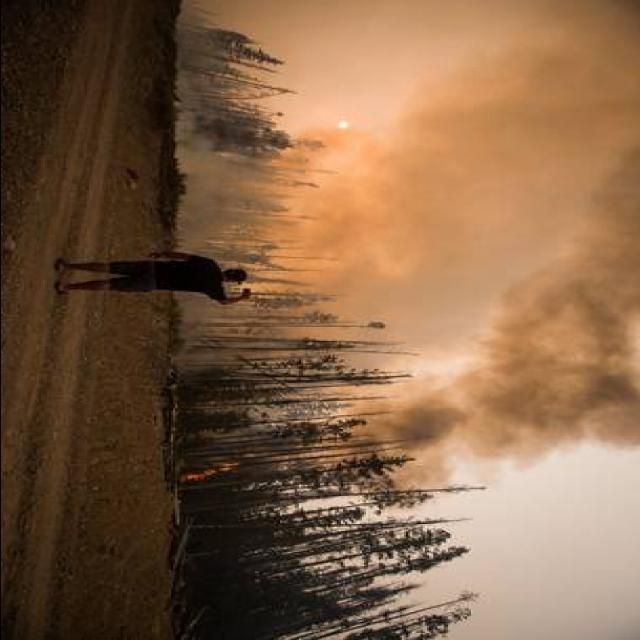Fire: (176, 460, 239, 486)
